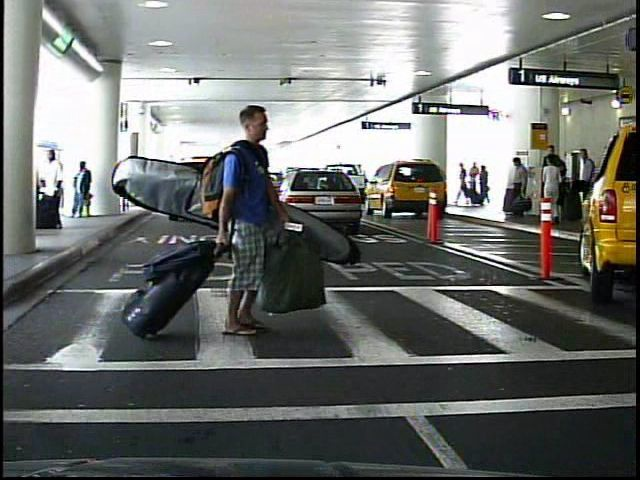person: (215, 98, 306, 356), (32, 146, 67, 231), (572, 146, 598, 221), (71, 158, 98, 225), (541, 144, 564, 220), (543, 155, 565, 225), (508, 158, 530, 221), (457, 160, 471, 208), (469, 161, 481, 208), (478, 162, 489, 206)
